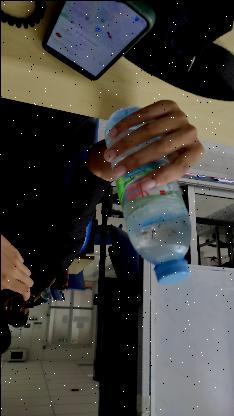Plastic Bottle: (103, 103, 193, 283)
